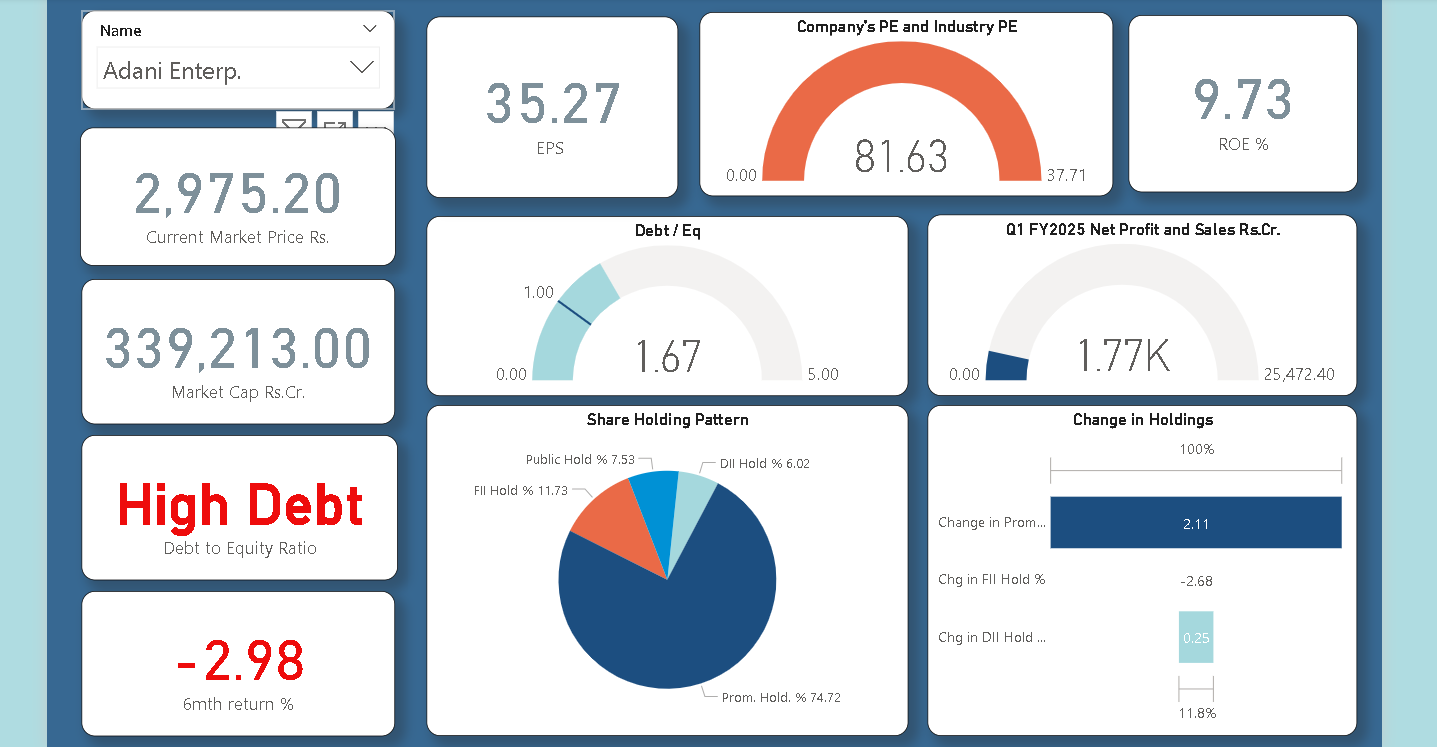

This screenshot's page, from the dashboard's own definition file:
{"tool":"powerbi","page":{"name":"Fundamental Analysis","canvas":[1280,720],"ordinal":0},"visuals":[{"type":"slicer","fields":{"Values":["Company Details.Name"]},"box":[33.1,12.9,300.6,94.9],"z":0},{"type":"card","title":"Current Market Price","fields":{"Values":["Sum(Company Details.Current Market Price Rs.)"]},"box":[32.2,125.7,302.5,133],"z":1000},{"type":"card","fields":{"Values":["Sum(Company Details.Market Cap Rs.Cr.)"]},"box":[33.1,270.4,300.6,139.5],"z":2000},{"type":"gauge","fields":{"Y":["Sum(Company Details.Debt / Eq)"]},"box":[363.9,210.5,461.8,172.5],"z":3000},{"type":"card","fields":{"Values":["Min(Company Details.Debt to Equity Ratio)"]},"box":[33.1,419.9,303.4,139.5],"z":4000},{"type":"card","fields":{"Values":["Sum(Company Details.6mth return %)"]},"box":[33.1,569.5,300.6,139.5],"z":5000},{"type":"gauge","fields":{"MaxValue":["Sum(Company Details.Industry PE)"],"Y":["Sum(Company Details.Price To Earning Ratio)"]},"box":[625.6,14.4,396.9,176.9],"z":6000},{"type":"gauge","title":"Q1 FY2025 Net Profit and Sales Rs.Cr.","fields":{"MaxValue":["Sum(Company Details.Sales Qtr Rs.Cr.)"],"Y":["Sum(Company Details.Net Profit Q1 FY2025 in Rs.Cr.)"]},"box":[844.7,209,412.1,173.9],"z":7000},{"type":"pieChart","title":"Share Holding Pattern","fields":{"Y":["Sum(Company Details.DII Hold %)","Sum(Company Details.Prom. Hold. %)","Sum(Company Details.FII Hold %)","Sum(Company Details.Public Hold %)"]},"box":[363.9,391.7,461.8,317.1],"z":8000},{"type":"funnel","title":"Change in Holdings","fields":{"Y":["Sum(Company Details.Change in Prom Hold %)","Sum(Company Details.Chg in FII Hold %)","Sum(Company Details.Chg in DII Hold %)"]},"box":[844.7,391.7,412.1,317.1],"z":9000},{"type":"card","fields":{"Values":["Sum(Company Details.ROE %)"]},"box":[1036.9,17.3,220,169.7],"z":10000},{"type":"card","fields":{"Values":["Sum(Company Details.EPS 12M Rs.)"]},"box":[363.8,18.7,241.6,174],"z":11000}]}

Visuals, with their boxes in screenshot pixels (x1, y1, x2, y2):
slicer - Company Details.Name: (83,13,391,111)
"Current Market Price" card: (82,129,392,265)
card - Sum(Company Details.Market Cap Rs.Cr.): (83,277,391,420)
gauge - Sum(Company Details.Debt / Eq): (422,216,895,393)
card - Min(Company Details.Debt to Equity Ratio): (83,430,394,573)
card - Sum(Company Details.6mth return %): (83,584,391,727)
gauge - Sum(Company Details.Industry PE) x Sum(Company Details.Price To Earning Ratio): (690,15,1097,196)
"Q1 FY2025 Net Profit and Sales Rs.Cr." gauge: (915,214,1337,393)
"Share Holding Pattern" pieChart: (422,402,895,727)
"Change in Holdings" funnel: (915,402,1337,727)
card - Sum(Company Details.ROE %): (1112,18,1337,192)
card - Sum(Company Details.EPS 12M Rs.): (422,19,669,198)
